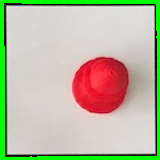Red Pawn: (70, 55, 130, 116)
